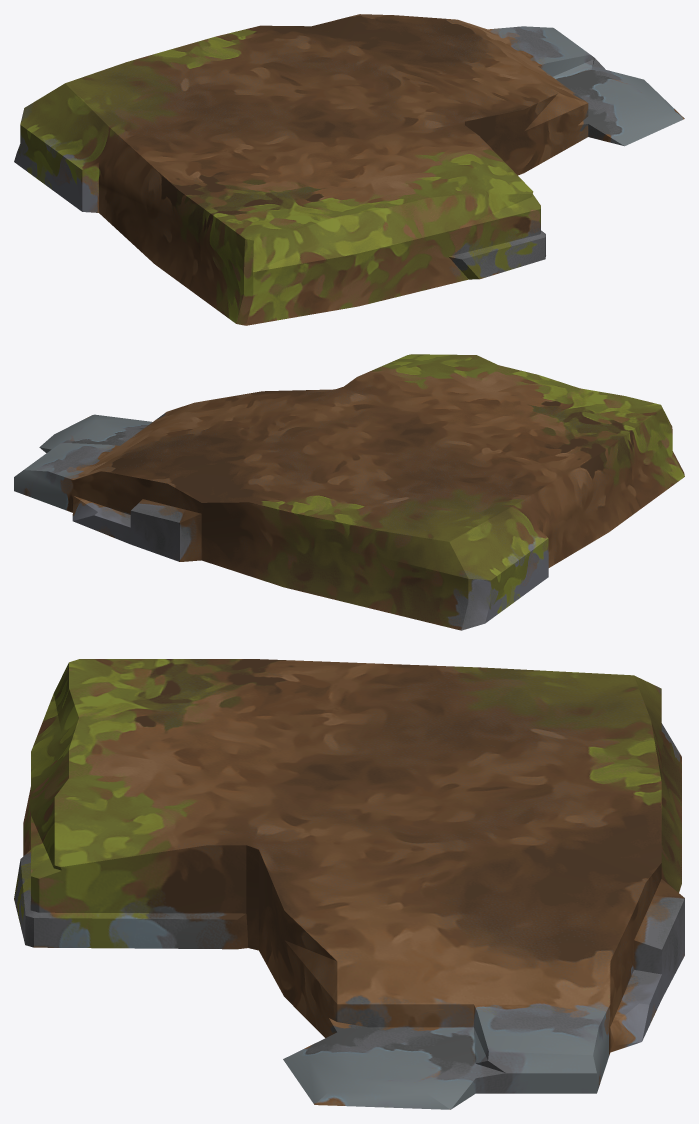
File: platforma_2.obj
3 renders of one model, top to bottom at view 1: azimuth 30°, elevation 25°; view 2: azimuth 150°, elevation 25°; view 3: azimuth 270°, elevation 25°, orthographic. The views are drawn at different scales.
Visible parts, largest first — view 1: Cylinder.004; view 2: Cylinder.004; view 3: Cylinder.004.
Boxes of the visible parts, x1,y1,x2,y2 form: Cylinder.004: (14,14,684,325); Cylinder.004: (14,354,684,630); Cylinder.004: (14,659,684,1109).
Size of the model in its own units: 61.4 by 8.24 by 47.49.
1 material, 1 textured.
